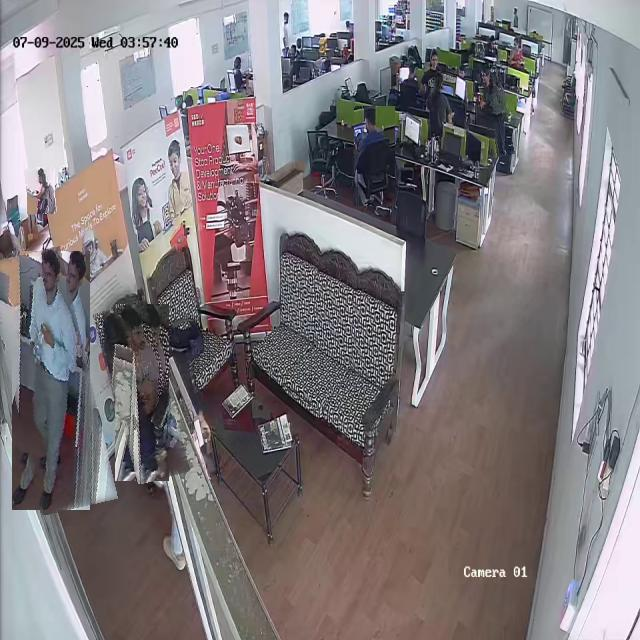person: (0, 248, 104, 512), (104, 302, 180, 483), (354, 106, 395, 206), (479, 66, 511, 158), (422, 72, 454, 138), (26, 167, 56, 215)
